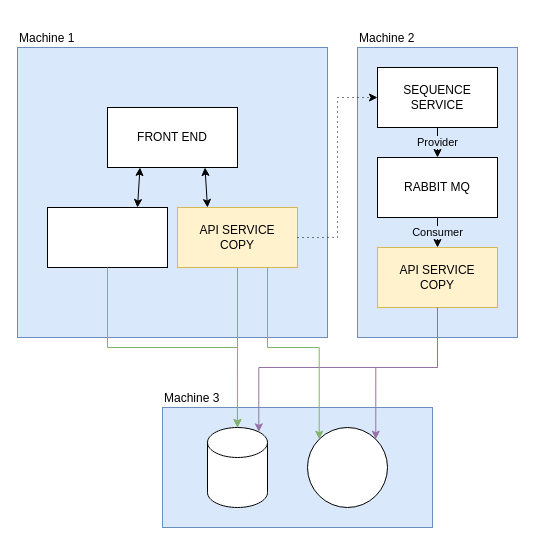
Some shapes in this 535 by 545 pixel diagram are drawn without their labels. The box of each missing label's shape, as (x1, y1, x2, y2) in pixels:
Centrifguo WebSockets: (306, 426, 388, 508)
MongoDB MariaDB Redis??: (206, 426, 268, 508)
USER SERVICE: (46, 206, 168, 268)
